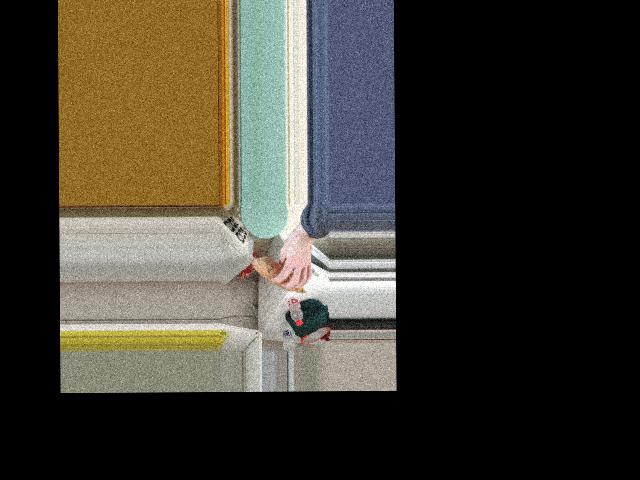sweet_potato: (254, 256, 308, 291)
